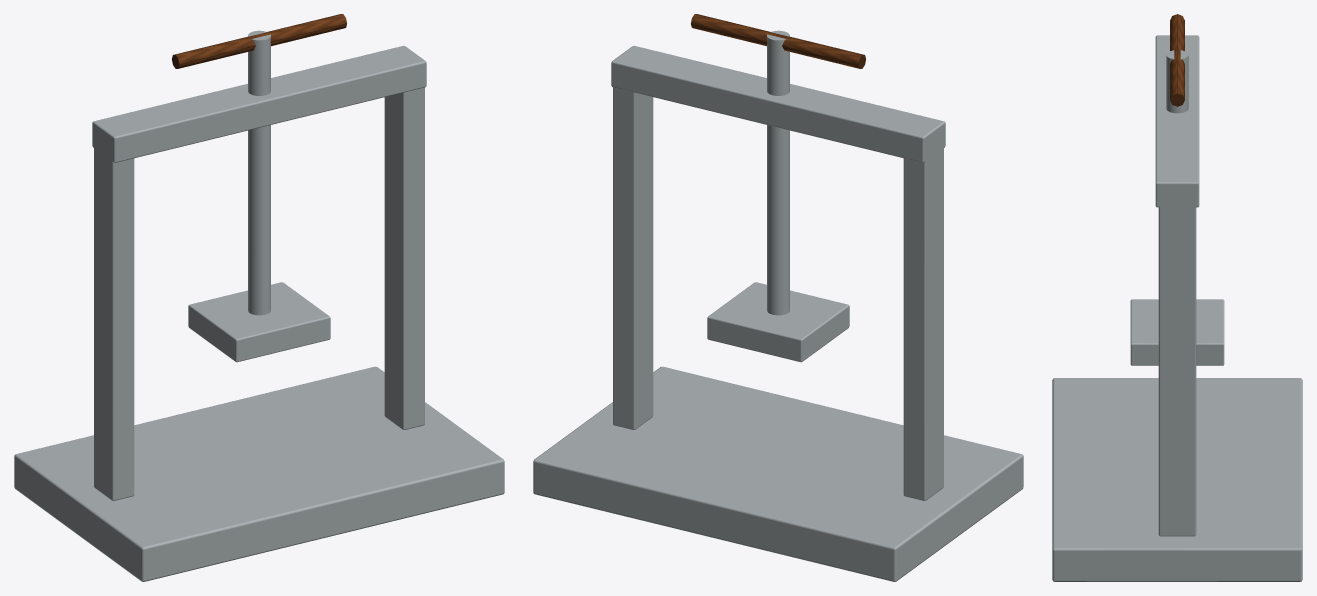
File: research-and-crafting-progression-manual-test-rig-cafce2db__2837.glb
3 views of the same model, side by side, from view 1: azimuth 30°, elevation 25°; view 2: azimuth 150°, elevation 25°; view 3: azimuth 270°, elevation 25° (orthographic). The views are drawn at different scales.
Visible parts, largest first — view 1: manual-test-rig; view 2: manual-test-rig; view 3: manual-test-rig.
Boxes of the visible parts, box(x1,y1,x2,y2) form: manual-test-rig: box(14, 14, 504, 581); manual-test-rig: box(533, 14, 1023, 581); manual-test-rig: box(1052, 14, 1302, 581).
Size of the model in its own units: 0.65 by 0.782 by 0.4001.
Materials: 2 (1 with a texture image).
